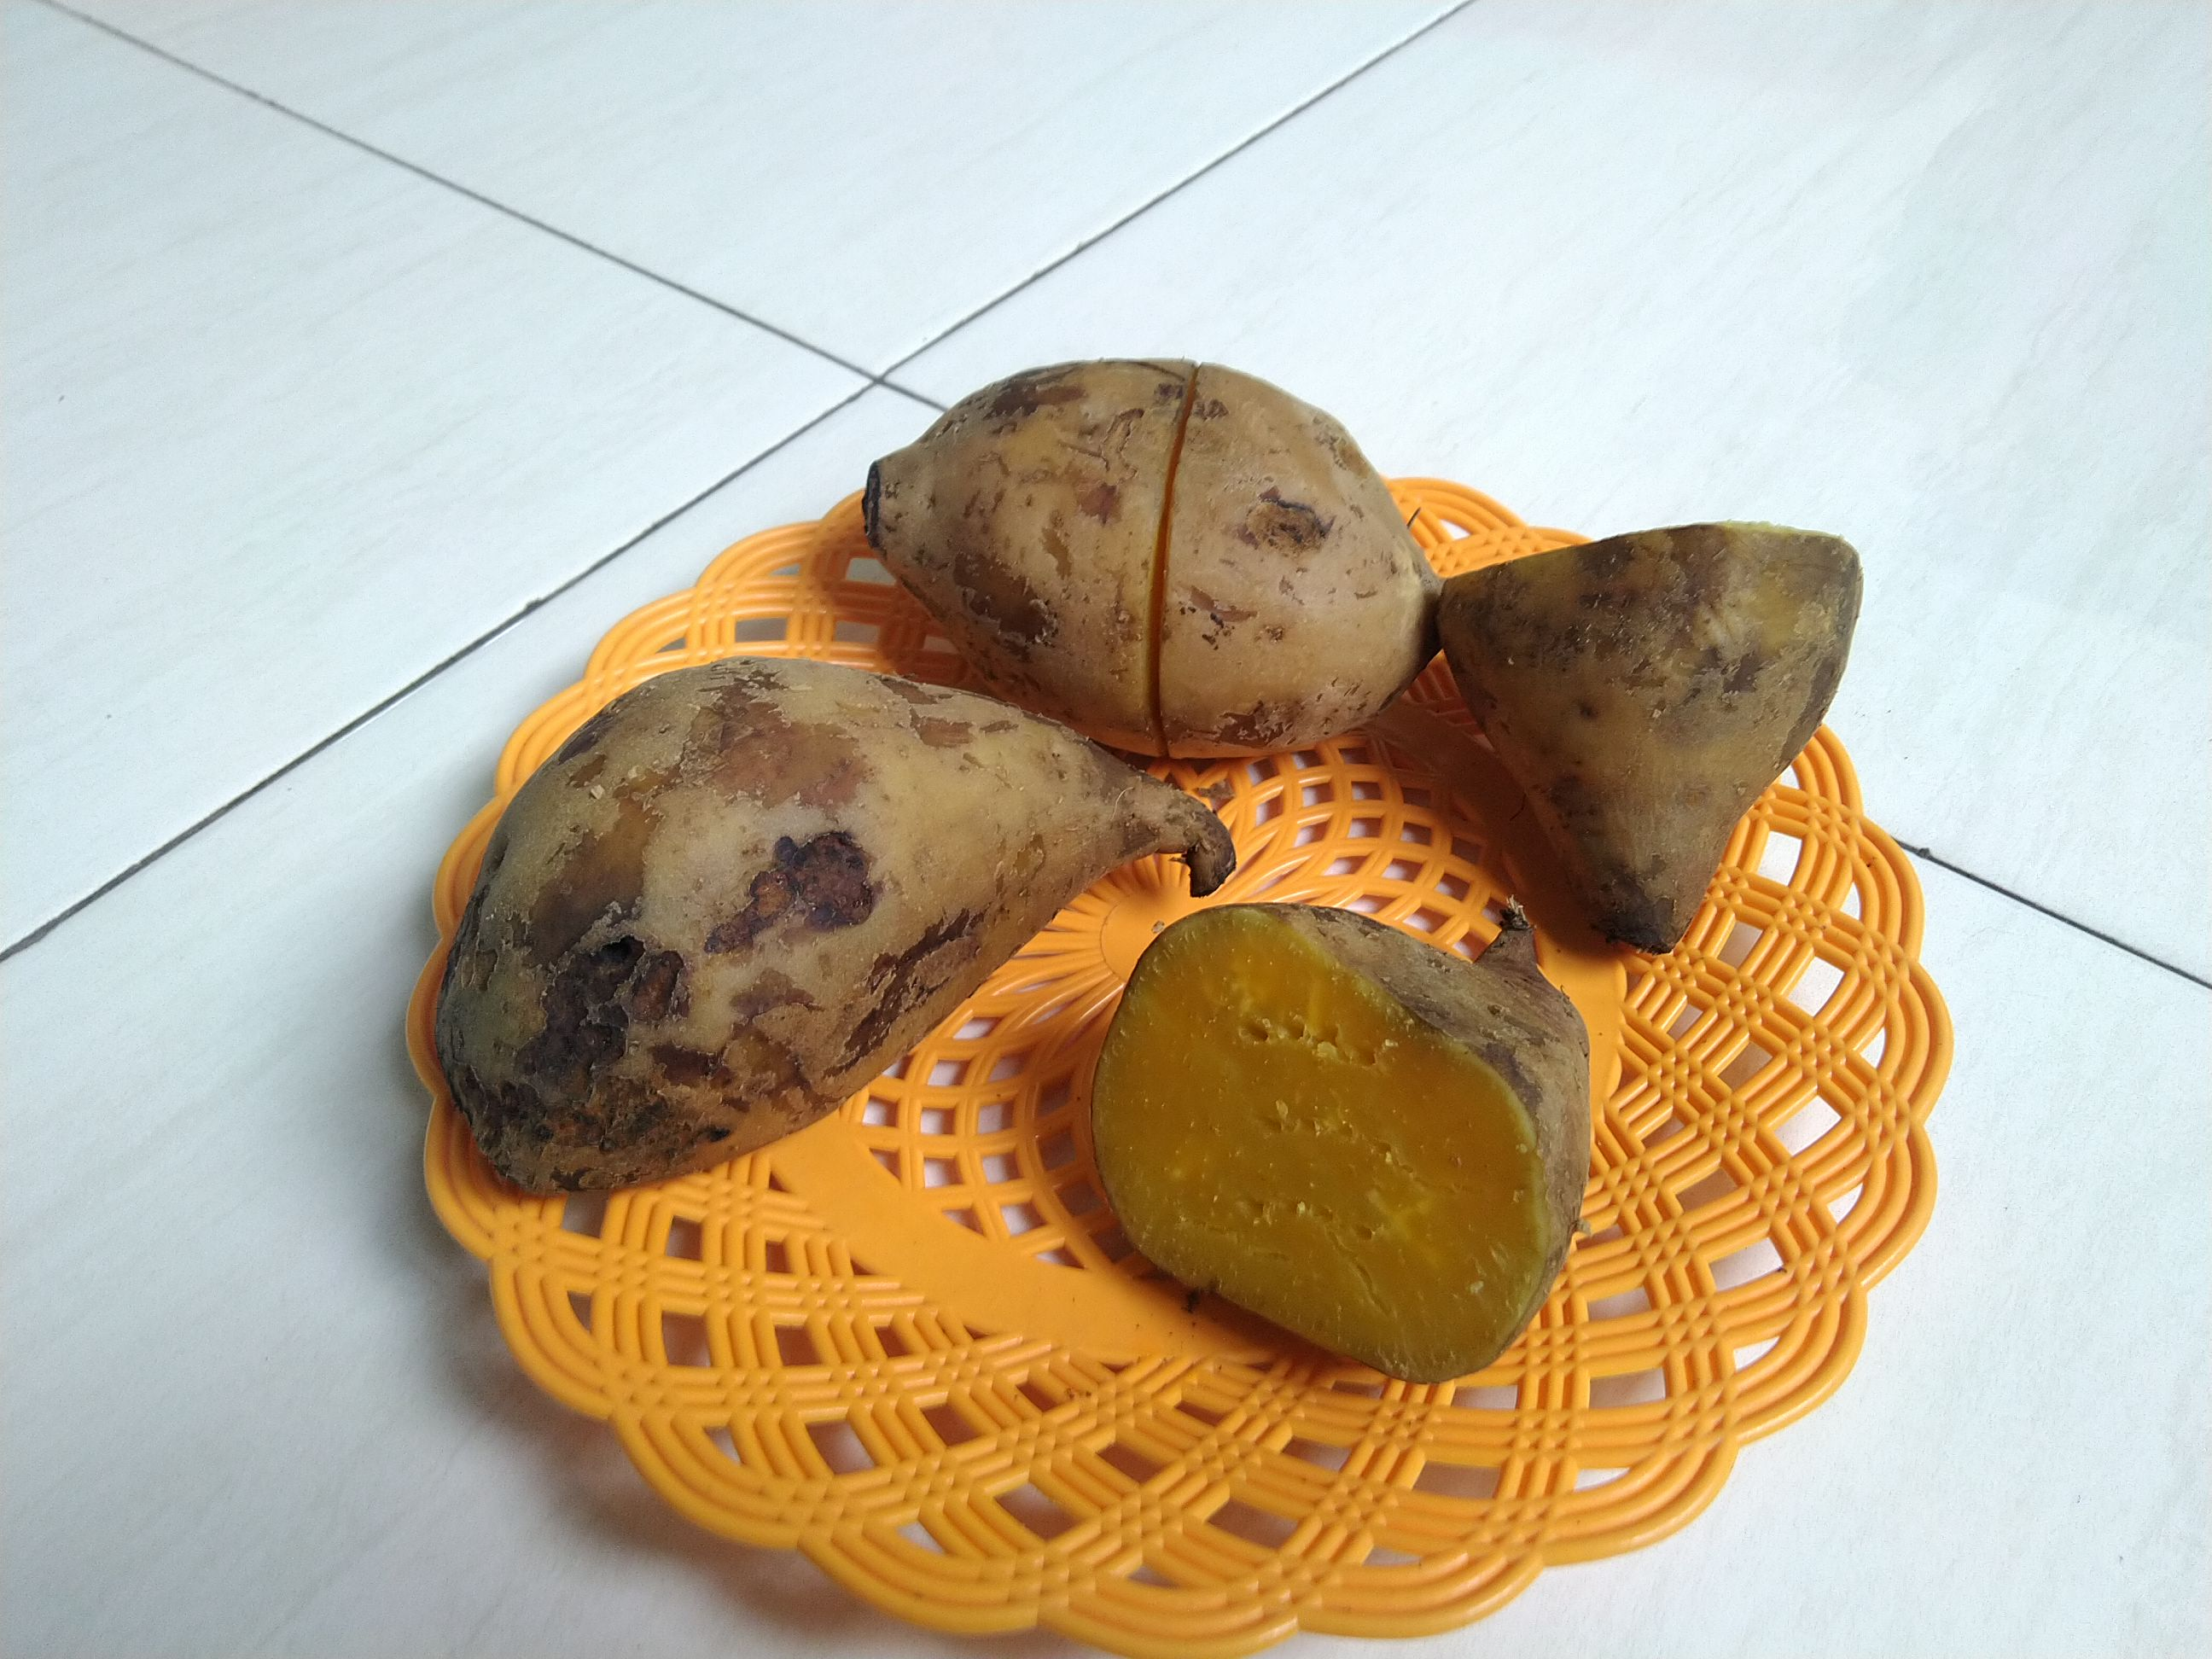ubi kuning: (427, 669, 1249, 1208), (1090, 890, 1726, 1370), (855, 343, 1447, 782), (1430, 500, 1853, 948)
